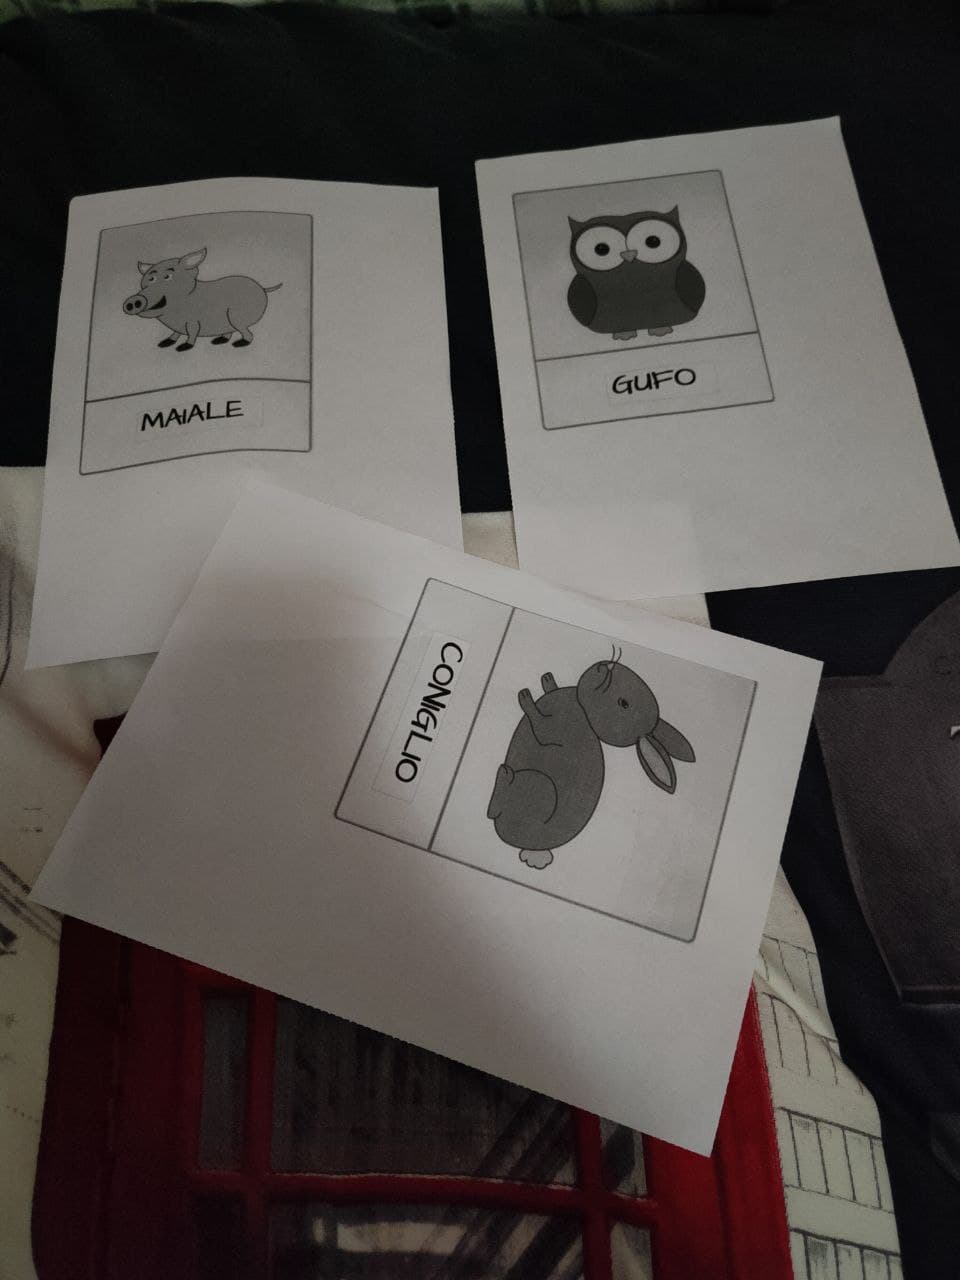coniglio: (397, 604, 713, 893)
gufo: (524, 189, 744, 428), (100, 247, 305, 451)
